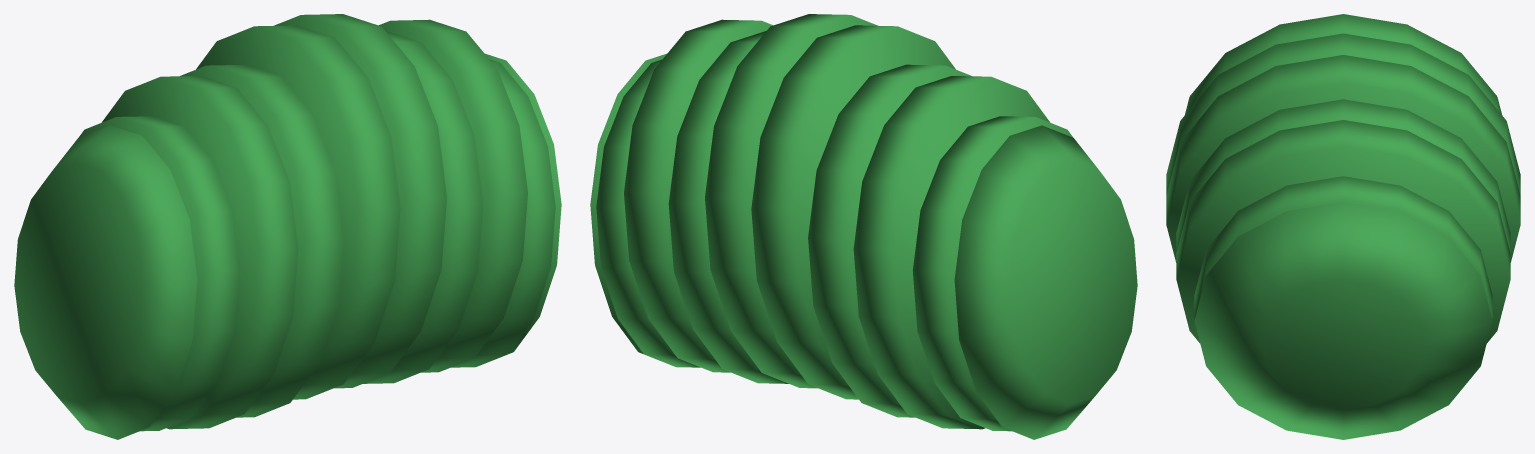
The model's file is LettuceSliced.fbx.
3 renders of one model, left to right at view 1: azimuth 30°, elevation 25°; view 2: azimuth 150°, elevation 25°; view 3: azimuth 270°, elevation 25°, orthographic. The views are drawn at different scales.
Parts seen in each view (by area): view 1: LettuceSliced; view 2: LettuceSliced; view 3: LettuceSliced.
Boxes of the visible parts, bbox=[...] form: LettuceSliced: bbox=[14, 14, 561, 439]; LettuceSliced: bbox=[590, 14, 1137, 439]; LettuceSliced: bbox=[1166, 14, 1520, 439].
Size of the model in its own units: 63.02 by 45.2 by 43.32.
